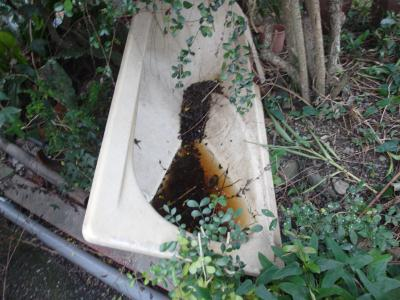tub: (77, 1, 289, 281)
